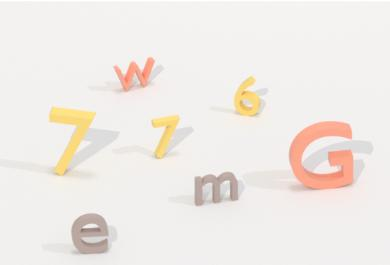6: (229, 73, 263, 119)
7: (43, 102, 101, 181), (148, 110, 183, 162)
W: (107, 51, 157, 96)
e: (67, 209, 112, 257)
g: (284, 117, 358, 193)
m: (191, 168, 241, 211)
